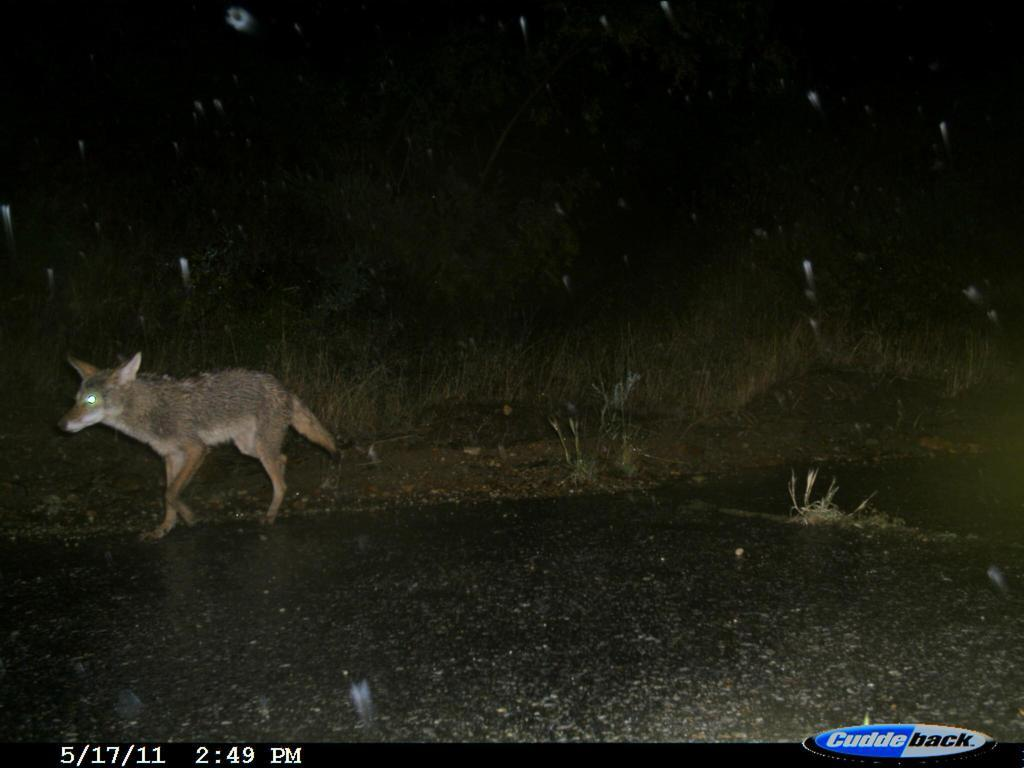coyote: (58, 347, 341, 541)
